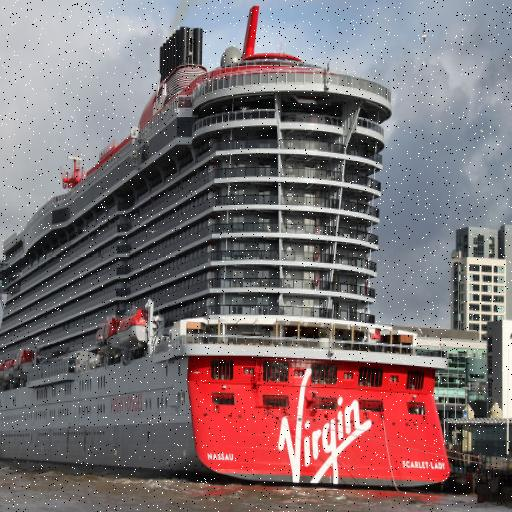cruises: (1, 1, 456, 496)
